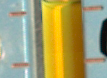border: (82, 5, 105, 13), (82, 57, 107, 64), (9, 62, 32, 68), (7, 11, 28, 17)
liquidlevel: (40, 0, 82, 5)
